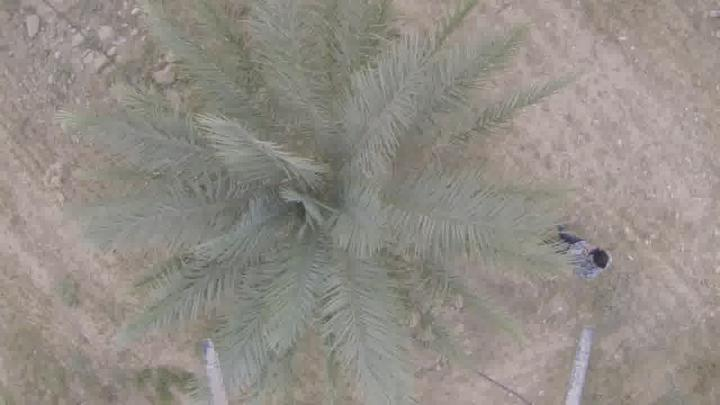Date-Palm-Crown: (166, 65, 472, 327)
